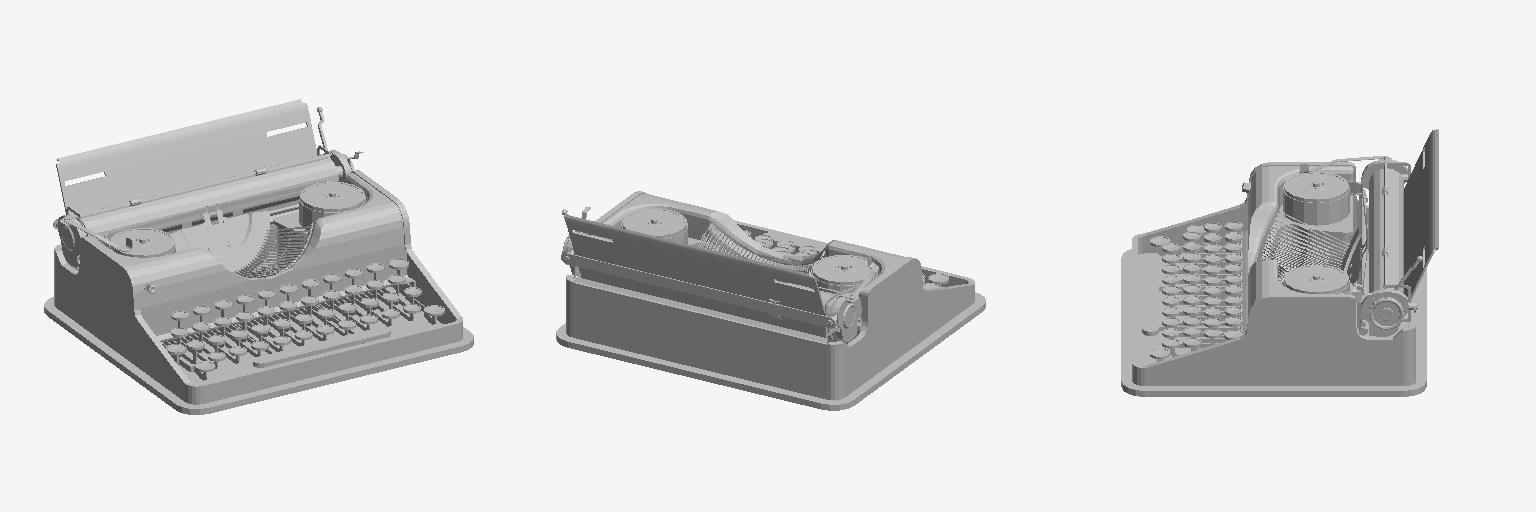
Rendered from 1930-type-typewriter.obj.
3 renders of one model, left to right at view 1: azimuth 30°, elevation 25°; view 2: azimuth 150°, elevation 25°; view 3: azimuth 270°, elevation 25°, orthographic.
Parts seen in each view (by area): view 1: Casing.001_Plane.062_Plane.004, Platen-rest-moveable.001_Plane.062_Plane.007, Keys-and-levers.001_Plane.062_Plane.008, mechanism-ribbon-etc.001_Plane.062_Plane.001; view 2: Casing.001_Plane.062_Plane.004, Platen-rest-moveable.001_Plane.062_Plane.007, mechanism-ribbon-etc.001_Plane.062_Plane.001, Keys-and-levers.001_Plane.062_Plane.008; view 3: Casing.001_Plane.062_Plane.004, Platen-rest-moveable.001_Plane.062_Plane.007, Keys-and-levers.001_Plane.062_Plane.008, mechanism-ribbon-etc.001_Plane.062_Plane.001.
Boxes of the visible parts, x1,y1,x2,y2 form: Casing.001_Plane.062_Plane.004: [44, 170, 473, 414]; Platen-rest-moveable.001_Plane.062_Plane.007: [53, 99, 363, 267]; Keys-and-levers.001_Plane.062_Plane.008: [161, 259, 444, 380]; mechanism-ribbon-etc.001_Plane.062_Plane.001: [76, 180, 365, 277]; Casing.001_Plane.062_Plane.004: [556, 191, 985, 410]; Platen-rest-moveable.001_Plane.062_Plane.007: [561, 206, 878, 341]; mechanism-ribbon-etc.001_Plane.062_Plane.001: [573, 208, 877, 342]; Keys-and-levers.001_Plane.062_Plane.008: [743, 230, 948, 288]; Casing.001_Plane.062_Plane.004: [1121, 162, 1426, 396]; Platen-rest-moveable.001_Plane.062_Plane.007: [1299, 129, 1438, 336]; Keys-and-levers.001_Plane.062_Plane.008: [1142, 222, 1350, 361]; mechanism-ribbon-etc.001_Plane.062_Plane.001: [1260, 172, 1411, 335].
Bounding box in the file's own units: 8.33 × 3.72 × 7.75.